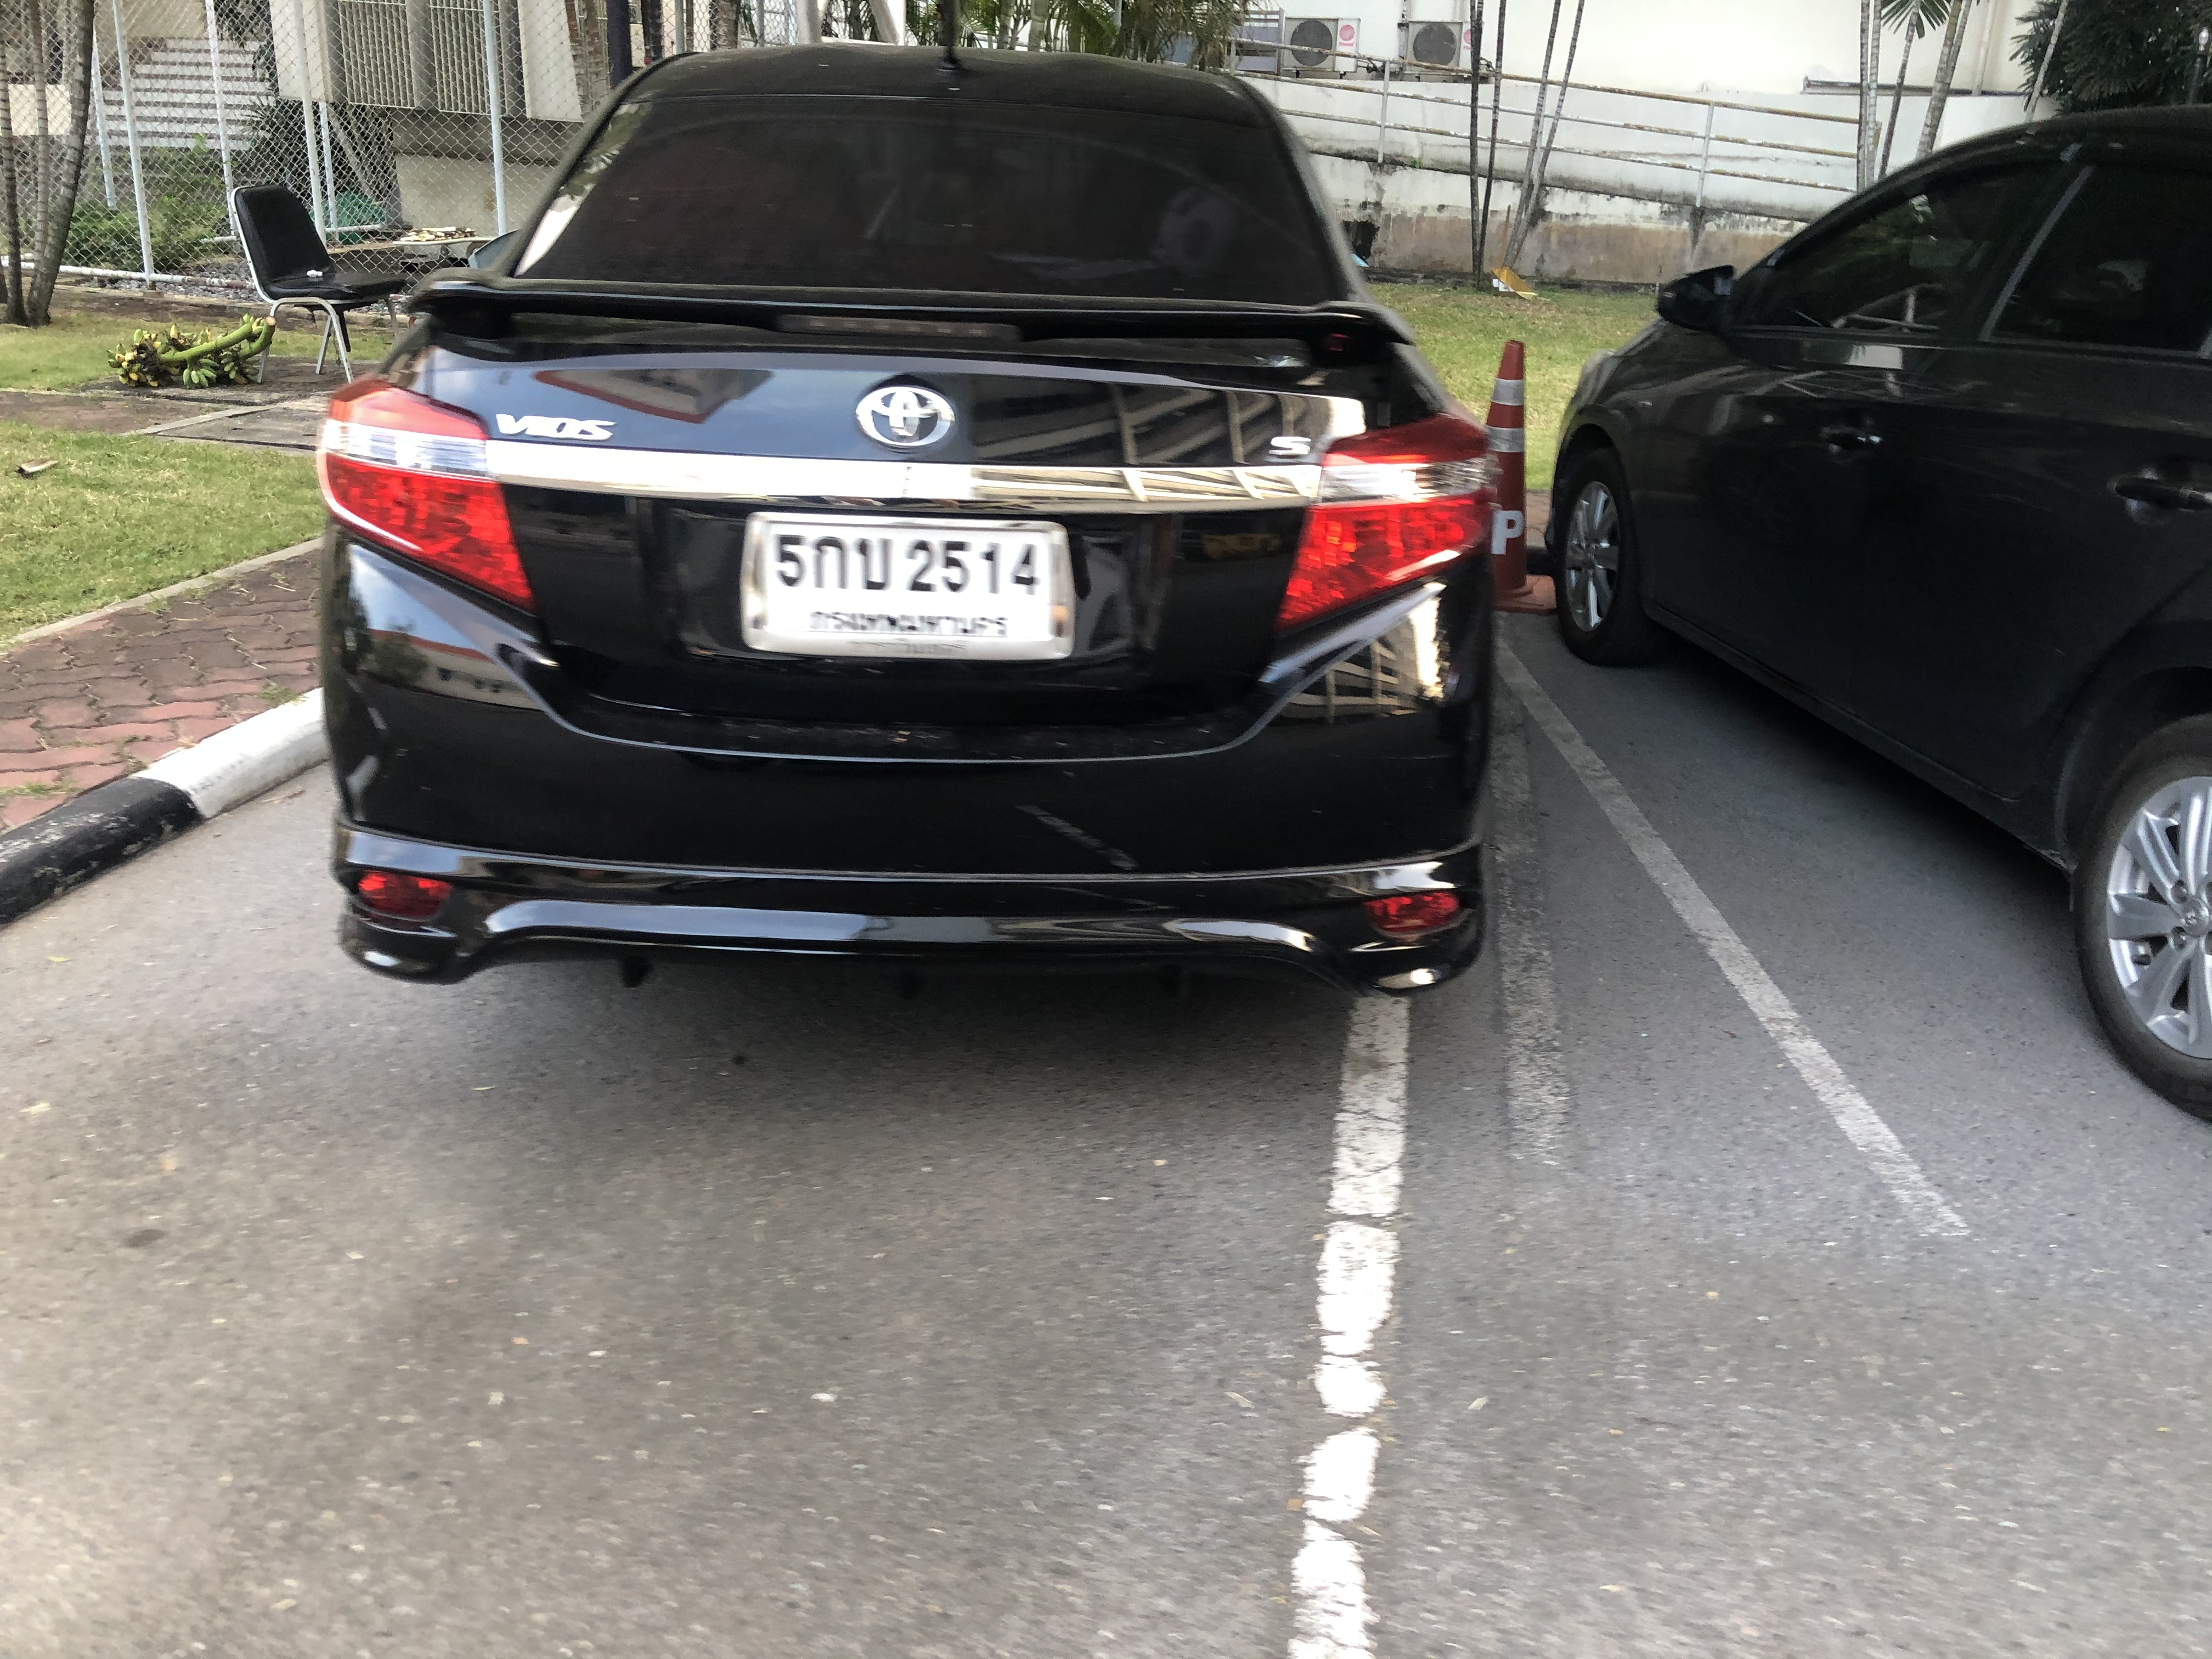in: (765, 518, 1054, 647)
out: (737, 502, 1078, 662)
